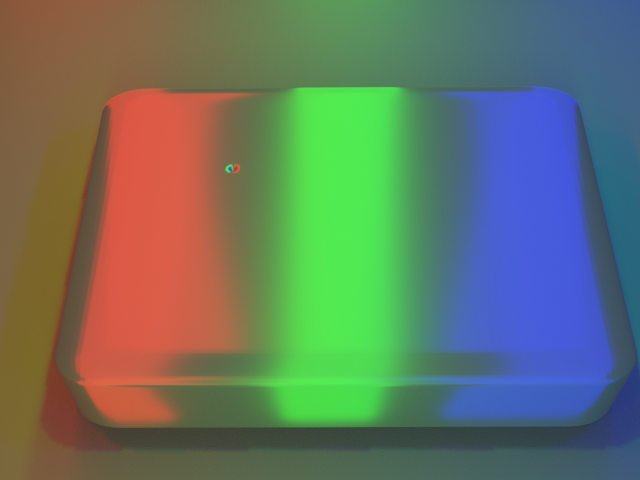dent: (208, 146, 242, 182)
